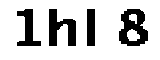1: (15, 7, 43, 51)
8: (116, 9, 153, 51)
I: (86, 6, 102, 51)
h: (46, 6, 79, 53)
